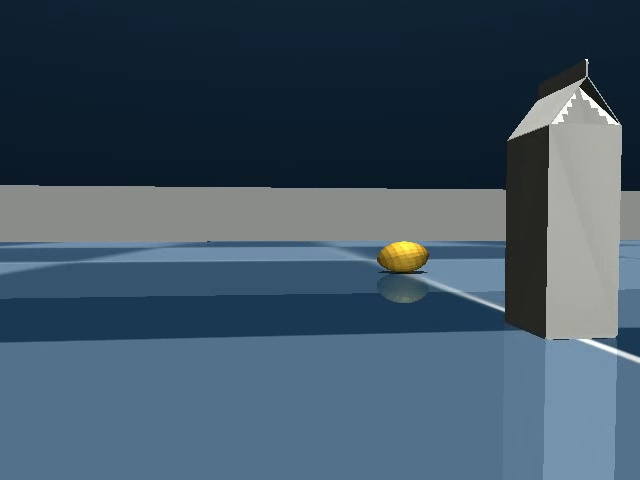lemon: (372, 235, 434, 279)
milk: (490, 54, 625, 349)
